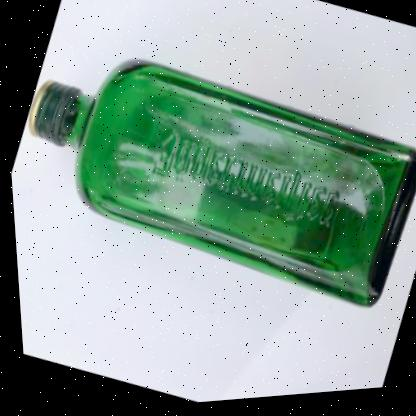Glass: (26, 66, 416, 313)
